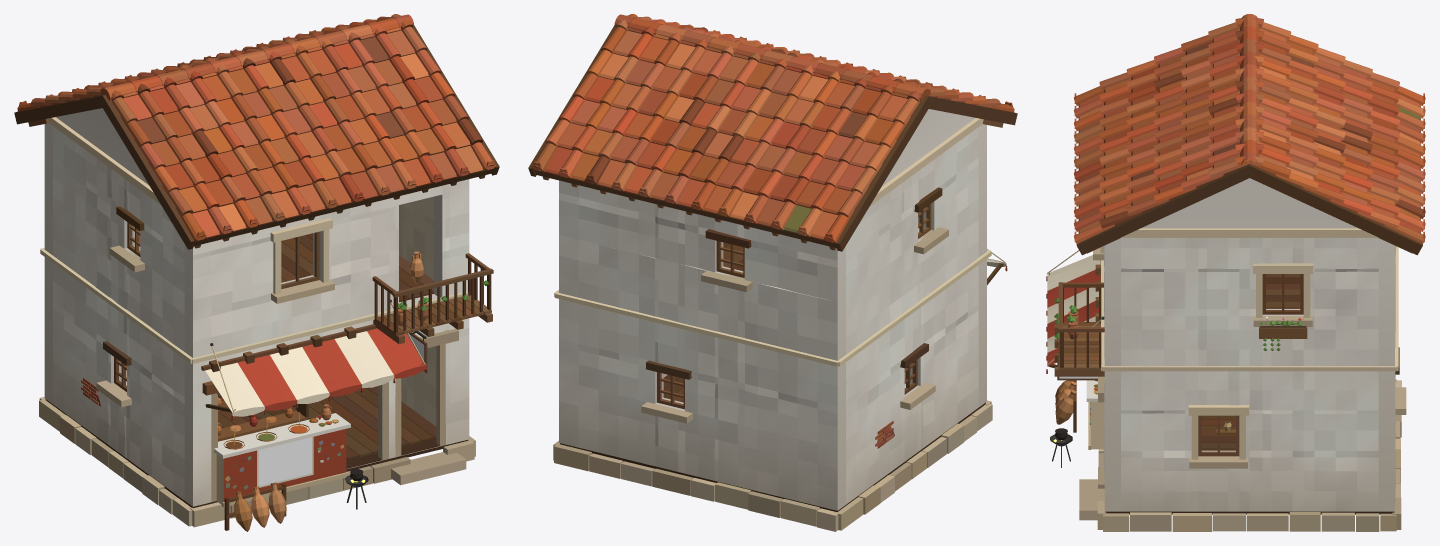
File: shop_thermopolium.glb
3 renders of one model, left to right at view 1: azimuth 30°, elevation 25°; view 2: azimuth 150°, elevation 25°; view 3: azimuth 270°, elevation 25°, orthographic. The views are drawn at different scales.
Visible parts, largest first — view 1: House, Walls, Rooms; view 2: Walls, House, Rooms; view 3: House, Walls, Rooms.
Boxes of the visible parts, x1,y1,x2,y2 form: House: (14, 14, 499, 531); Walls: (44, 108, 469, 506); Rooms: (126, 196, 436, 460); Walls: (559, 109, 986, 510); House: (528, 14, 1017, 531); Rooms: (663, 212, 919, 402); House: (1046, 14, 1425, 531); Walls: (1103, 178, 1395, 511); Rooms: (1201, 274, 1300, 450).
Bounding box in the file's own units: 4.71 × 5.58 × 5.1.
Materials: 7 (7 with a texture image).
